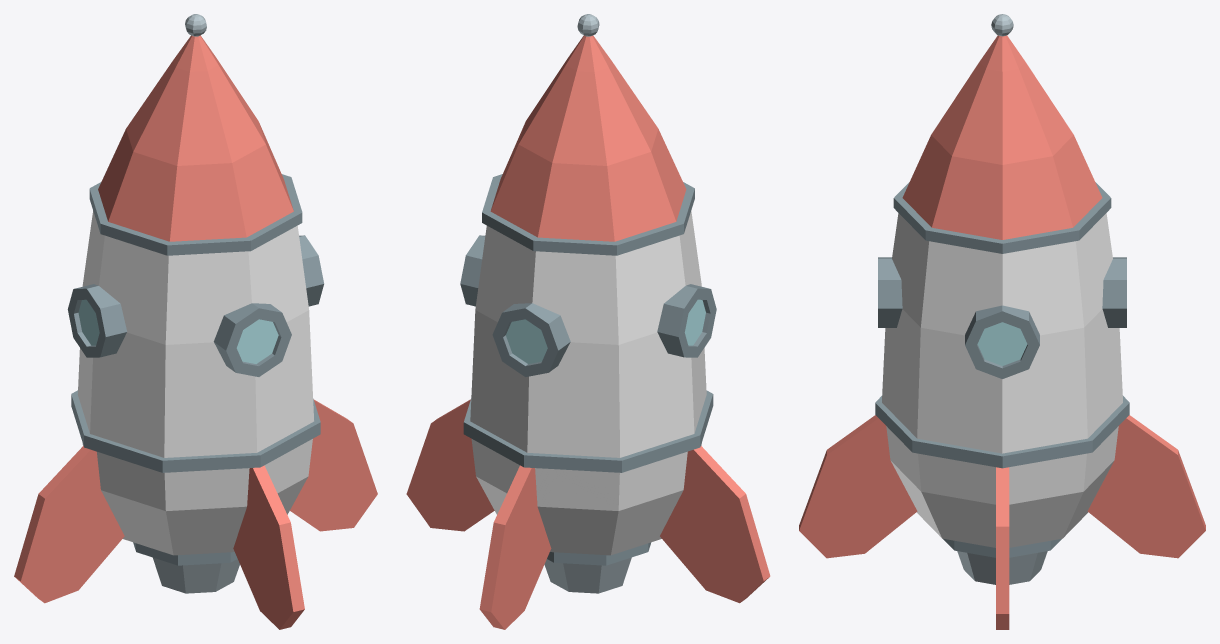
Rendered from Rocket_Ship_01.gltf.
3 views of the same model, side by side, from view 1: azimuth 30°, elevation 25°; view 2: azimuth 150°, elevation 25°; view 3: azimuth 270°, elevation 25° (orthographic).
Visible parts, largest first — view 1: node-0; view 2: node-0; view 3: node-0.
Boxes of the visible parts, bbox=[...] form: node-0: bbox=[14, 14, 377, 629]; node-0: bbox=[406, 14, 770, 629]; node-0: bbox=[799, 14, 1205, 629].
Size of the model in its own units: 6.59 by 9.92 by 6.59.
